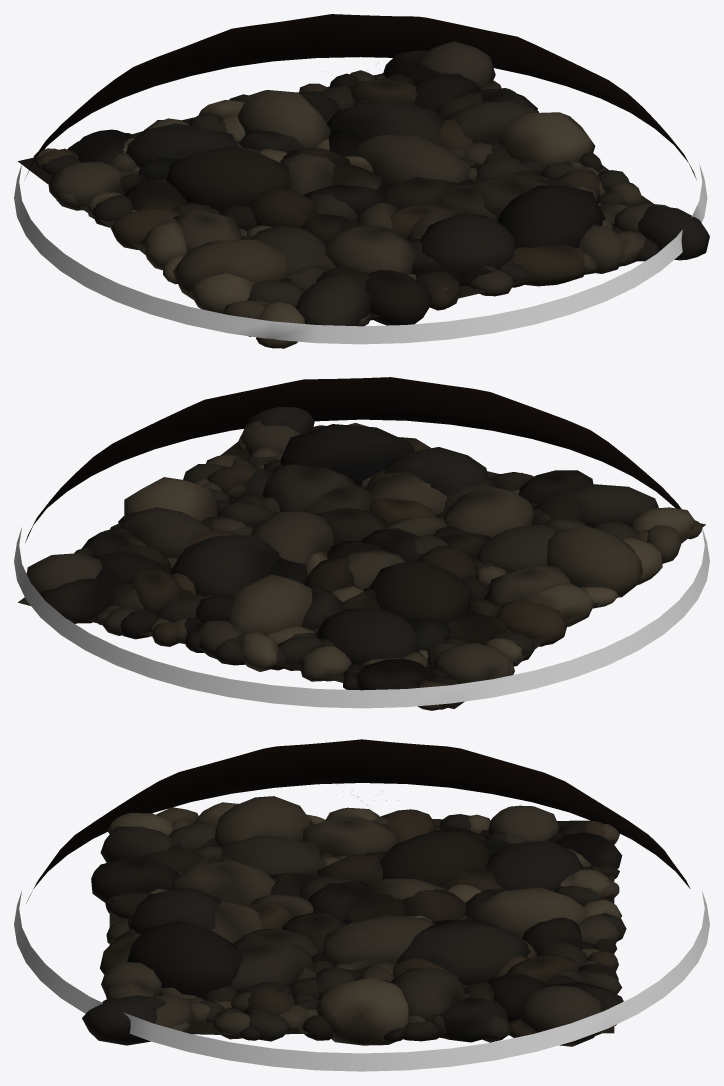
Rendered from ford.glb.
3 renders of one model, top to bottom at view 1: azimuth 30°, elevation 25°; view 2: azimuth 150°, elevation 25°; view 3: azimuth 270°, elevation 25°, orthographic.
Parts seen in each view (by area): view 1: cobbles_c__lod0, cobbles_a__lod0, cobbles_b__lod0, coracle__lod0; view 2: cobbles_c__lod0, cobbles_b__lod0, cobbles_a__lod0, coracle__lod0; view 3: cobbles_c__lod0, cobbles_b__lod0, cobbles_a__lod0, coracle__lod0.
Boxes of the visible parts, x1,y1,x2,y2 form: cobbles_c__lod0: (42,50,709,336); cobbles_a__lod0: (18,41,669,348); cobbles_b__lod0: (33,70,659,348); coracle__lod0: (14,14,707,344); cobbles_c__lod0: (40,407,681,689); cobbles_b__lod0: (40,423,702,710); cobbles_a__lod0: (18,420,705,709); coracle__lod0: (14,377,709,708); cobbles_c__lod0: (82,796,626,1045); cobbles_b__lod0: (101,805,622,1045); cobbles_a__lod0: (100,802,622,1046); coracle__lod0: (14,739,709,1071).
Size of what is drawn, in the model's own units: 2.76 by 0.62 by 2.76.
